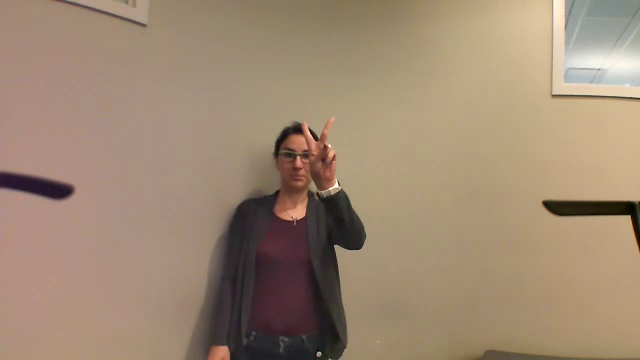peace: (294, 112, 345, 183)
